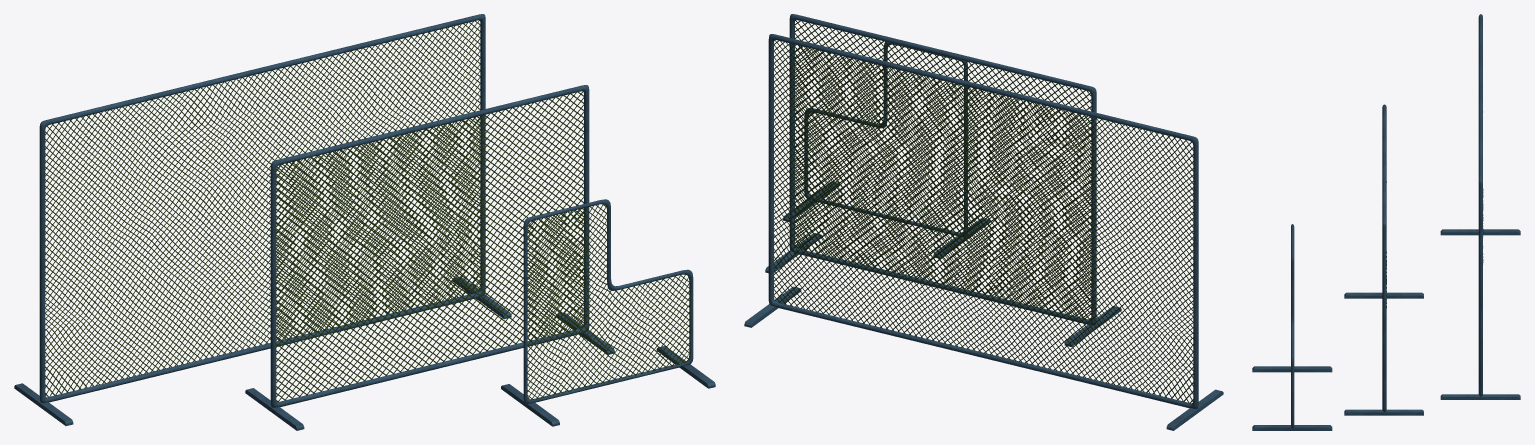
File: B_Daily_R_St_N_BaseballEquipment_0001.FBX
3 views of the same model, side by side, from view 1: azimuth 30°, elevation 25°; view 2: azimuth 150°, elevation 25°; view 3: azimuth 270°, elevation 25° (orthographic). The views are drawn at different scales.
Parts seen in each view (by area): view 1: B_Amuse_0_008_05, B_Amuse_0_008_04, B_Amuse_0_008_06, B_Amuse_0_009_04, B_Amuse_0_009_06, B_Amuse_0_009_05; view 2: B_Amuse_0_008_05, B_Amuse_0_008_04, B_Amuse_0_009_04, B_Amuse_0_009_06, B_Amuse_0_009_05; view 3: B_Amuse_0_009_04, B_Amuse_0_009_06, B_Amuse_0_009_05.
Part boxes in pixels (<box>): B_Amuse_0_008_05: <box>45,21,480,397</box>; B_Amuse_0_008_04: <box>276,91,583,401</box>; B_Amuse_0_008_06: <box>527,204,690,400</box>; B_Amuse_0_009_04: <box>14,14,511,425</box>; B_Amuse_0_009_06: <box>245,85,614,430</box>; B_Amuse_0_009_05: <box>501,199,715,426</box>; B_Amuse_0_008_05: <box>773,40,1193,403</box>; B_Amuse_0_008_04: <box>794,20,1091,319</box>; B_Amuse_0_009_04: <box>744,34,1223,430</box>; B_Amuse_0_009_06: <box>765,14,1121,347</box>; B_Amuse_0_009_05: <box>783,42,989,258</box>; B_Amuse_0_009_04: <box>1440,14,1520,399</box>; B_Amuse_0_009_06: <box>1344,104,1423,415</box>; B_Amuse_0_009_05: <box>1252,224,1332,430</box>.
Bounding box in the file's own units: 233 × 120 × 132.
Materials: 2 (2 with a texture image).
